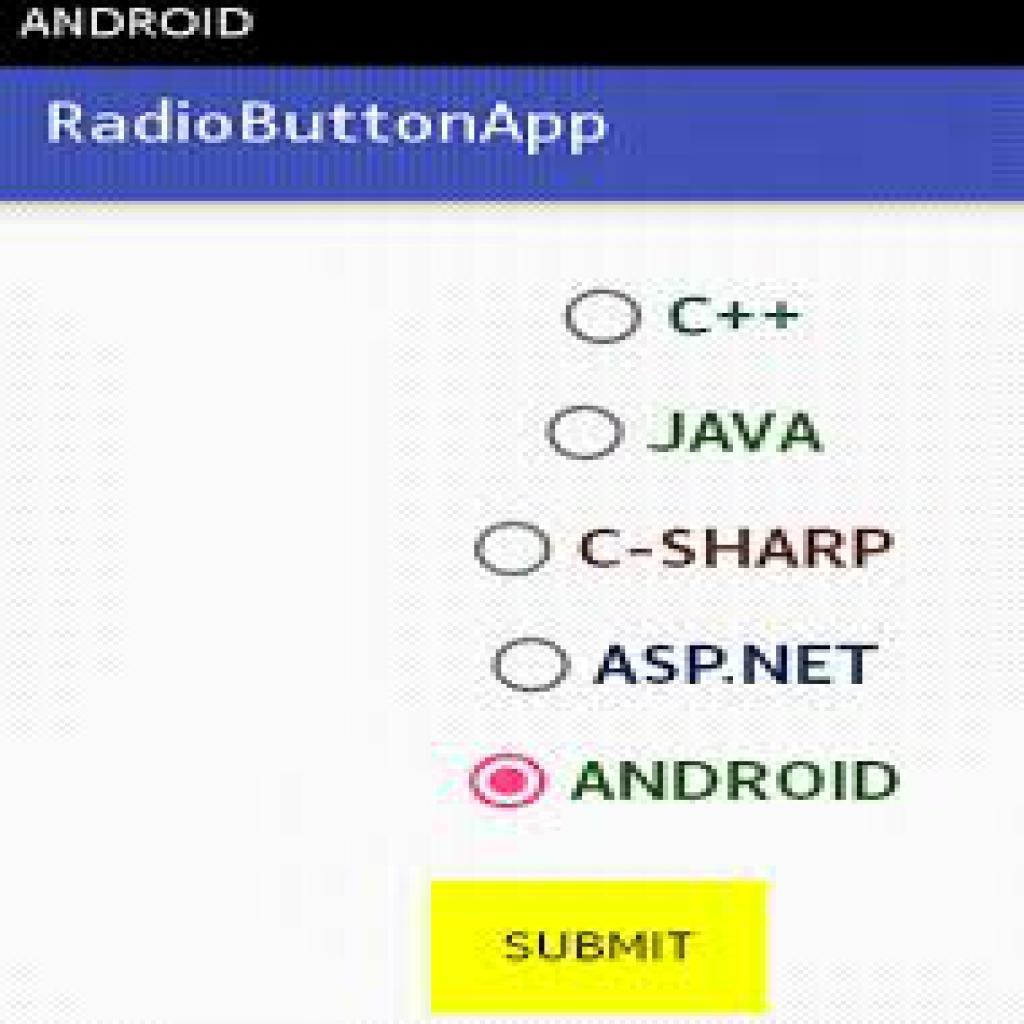button: (430, 882, 769, 1019)
label: (578, 520, 896, 581), (572, 756, 902, 809), (594, 640, 883, 694), (640, 406, 832, 459), (657, 285, 807, 345)
radio: (488, 633, 575, 697), (542, 404, 632, 464), (464, 752, 552, 812), (471, 520, 555, 581), (560, 289, 646, 347)
